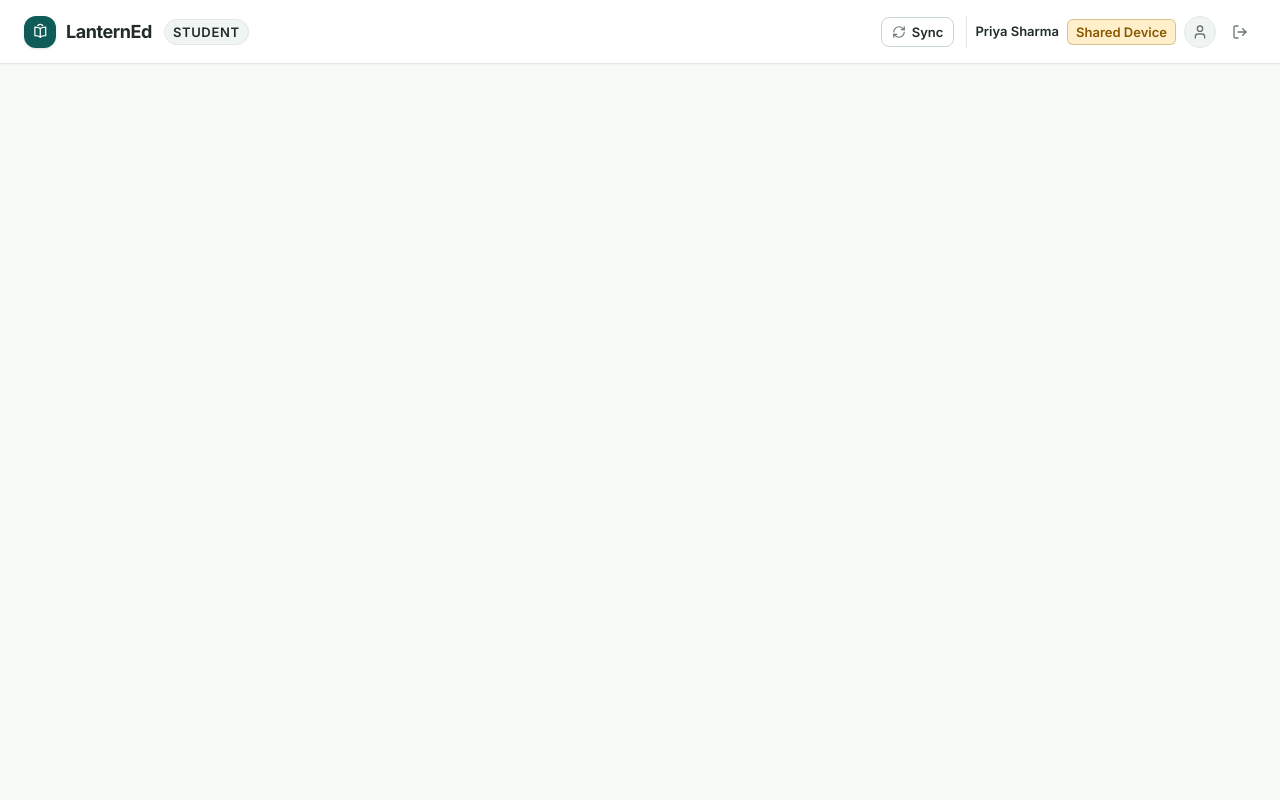
Scenario: Recorded Classes, Shared Devices & Multi-Section Workflows › prompts warning when unsaved assignment draft exists before logging out on shared device
// Click Log out or switch user button
Step 1. Click the button titled "log out or switch user" → (1240, 32), box [1224,16,1256,48]
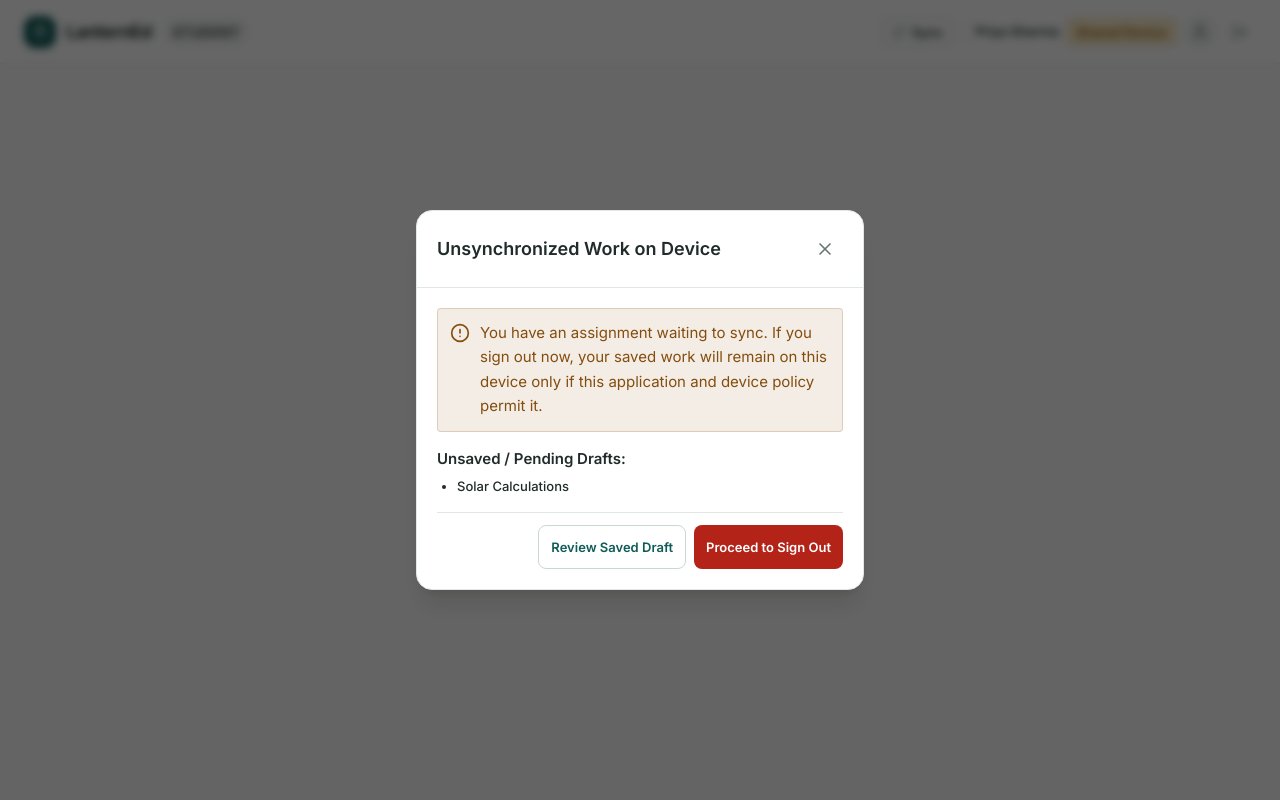
Now the heading "Unsynchronized Work on Device" is shown, box [437,235,721,263]
Now the text "You have an assignment waiting to sync" is shown, box [480,323,827,415]
